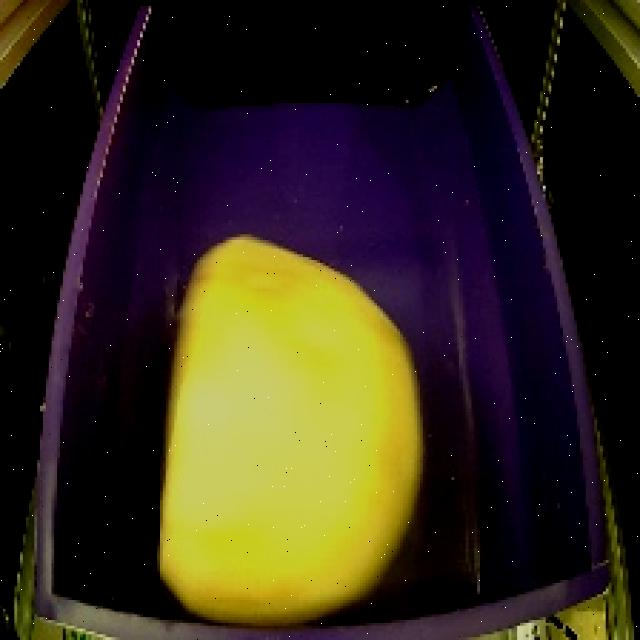full_potato: (143, 221, 428, 629)
